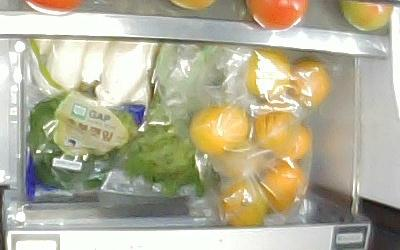tangerine_vinyl: (190, 103, 249, 153), (257, 160, 305, 211), (218, 178, 265, 227), (246, 49, 290, 97), (291, 58, 330, 107), (253, 110, 295, 150), (275, 124, 311, 161)
